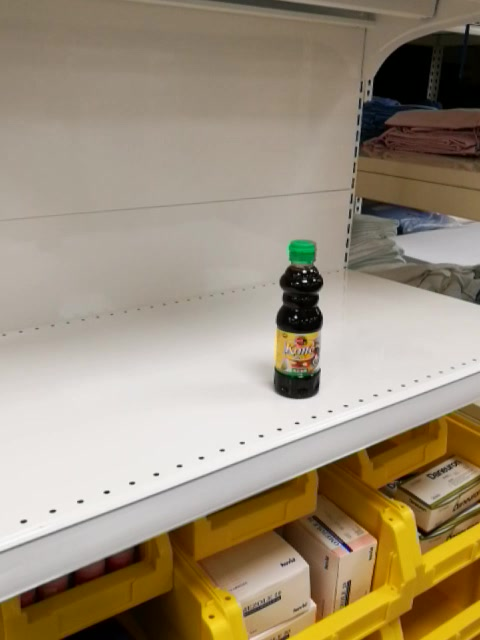cookingoil: (270, 238, 329, 401)
